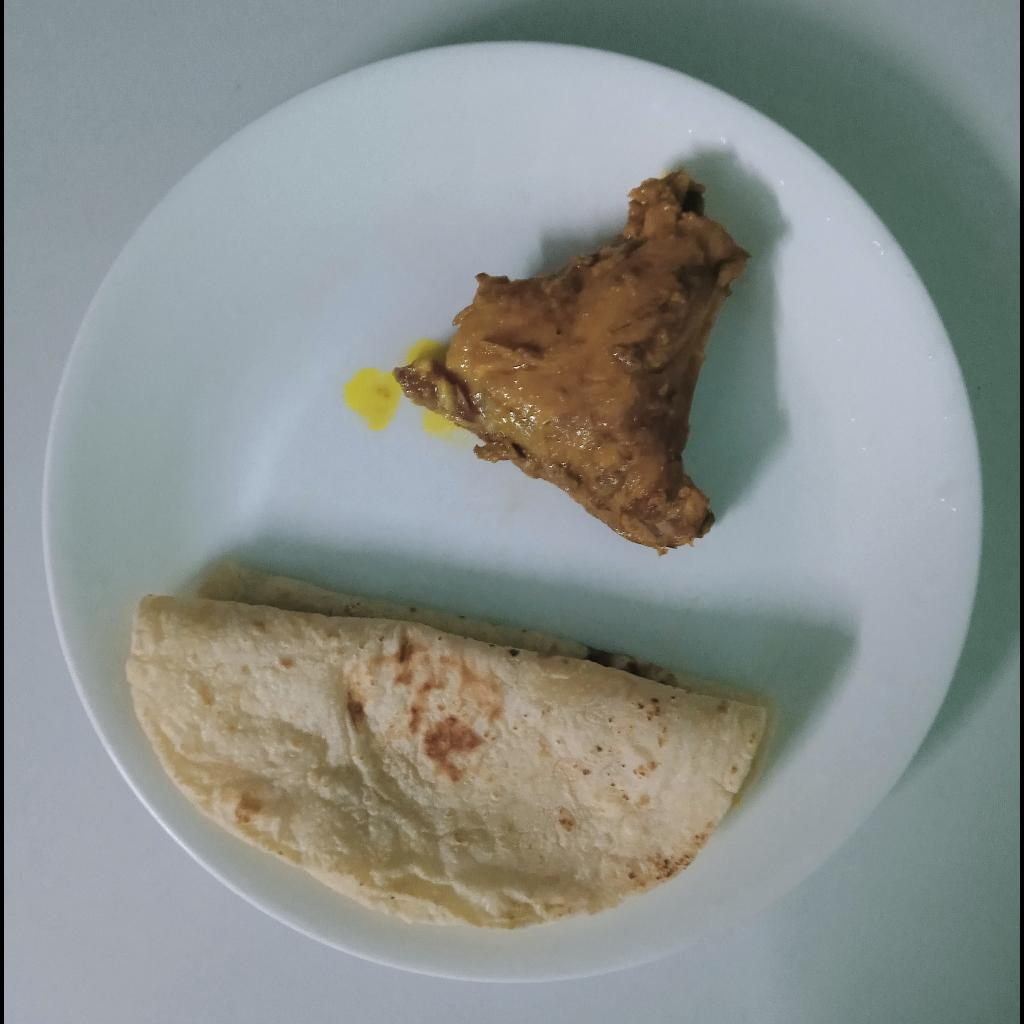chicken: (392, 169, 749, 548)
ruti: (125, 560, 780, 928)
